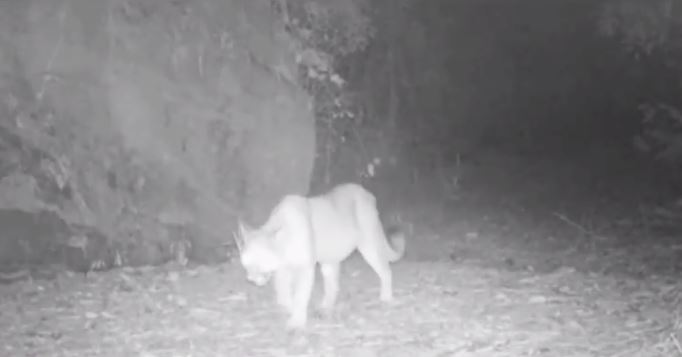OncaParda: (230, 180, 407, 330)
